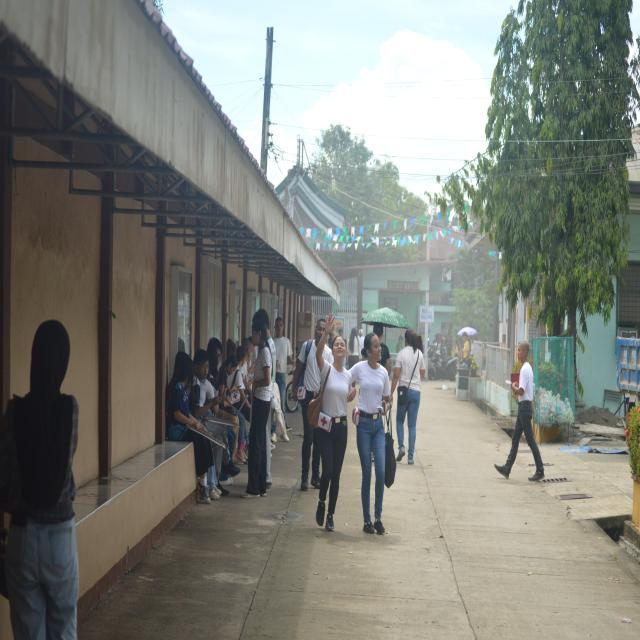person: (0, 321, 78, 639), (316, 315, 355, 530), (350, 333, 391, 534), (495, 342, 544, 481), (293, 319, 325, 490), (242, 321, 272, 498), (391, 329, 425, 464), (273, 317, 294, 422), (373, 324, 390, 375), (347, 328, 361, 368)
